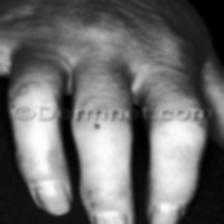Unclassified: (85, 124, 107, 134)
